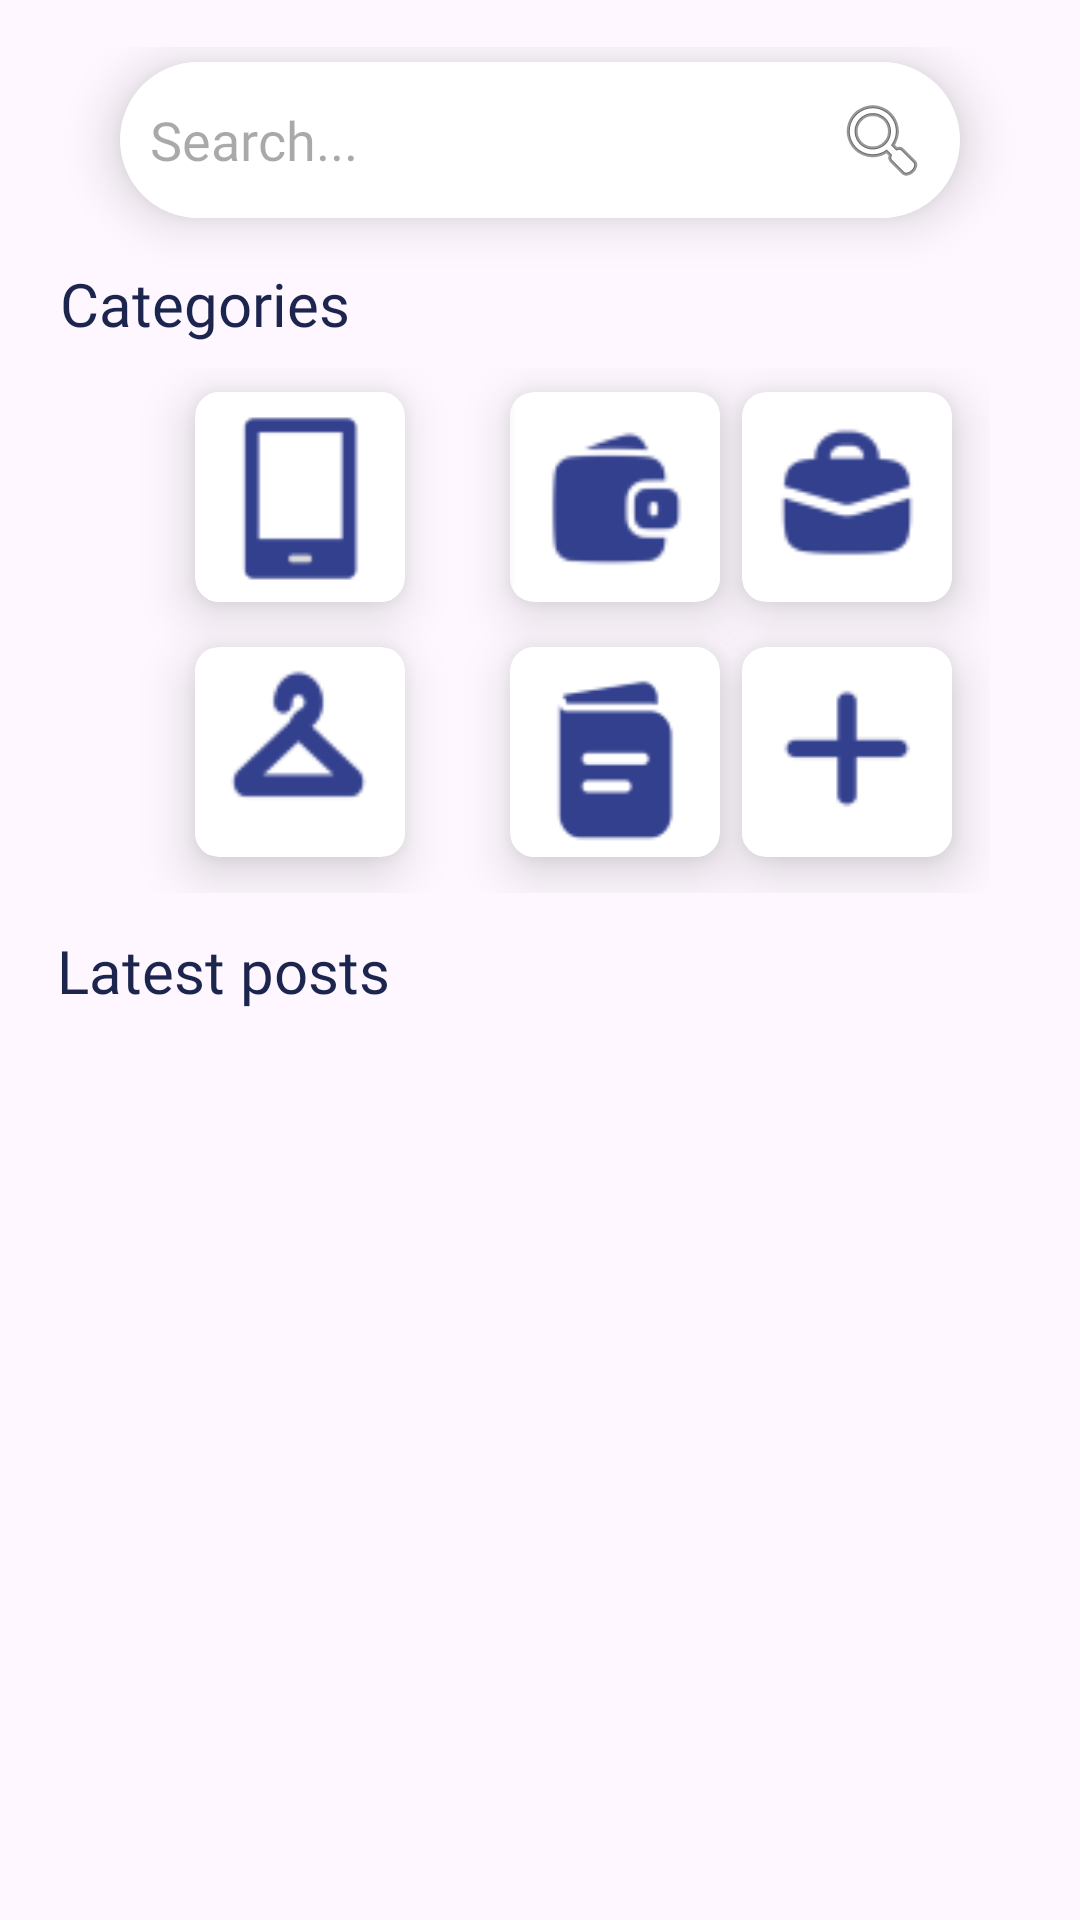

Named icons in this screenshot (1080px x 1920px) and their bounding boxes, (x1=x1, y1=y1, x2=x2, y2=y2):
bags: (x1=742, y1=392, x2=952, y2=602)
document: (x1=510, y1=647, x2=720, y2=857)
Electronics: (x1=195, y1=392, x2=405, y2=602)
others: (x1=742, y1=647, x2=952, y2=857)
personal: (x1=510, y1=392, x2=720, y2=602)
wearables: (x1=195, y1=647, x2=405, y2=857)
